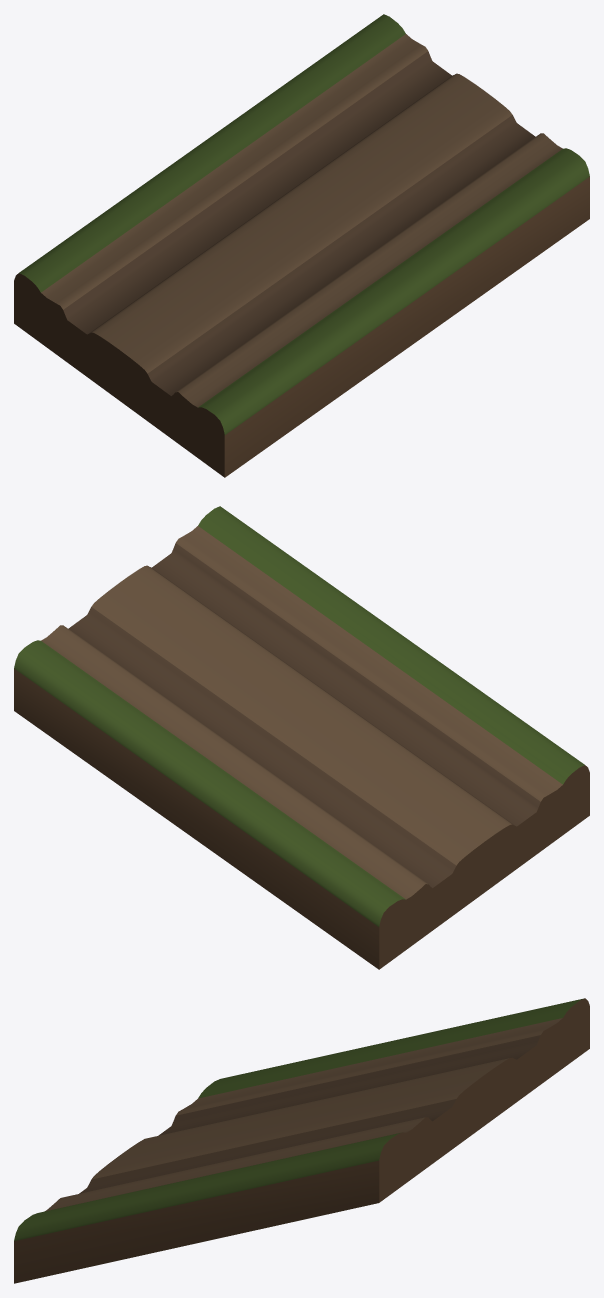
3 renders of one model, top to bottom at view 1: azimuth 30°, elevation 25°; view 2: azimuth 150°, elevation 25°; view 3: azimuth 330°, elevation 25°, orthographic.
Visible parts, largest first — view 1: b2o; view 2: b2o; view 3: b2o.
Boxes of the visible parts, x1=… form: b2o: x1=14, y1=14, x2=589, y2=477; b2o: x1=14, y1=506, x2=589, y2=969; b2o: x1=14, y1=998, x2=589, y2=1283.
Bounding box in the file's own units: 9 × 5.31 × 9.
